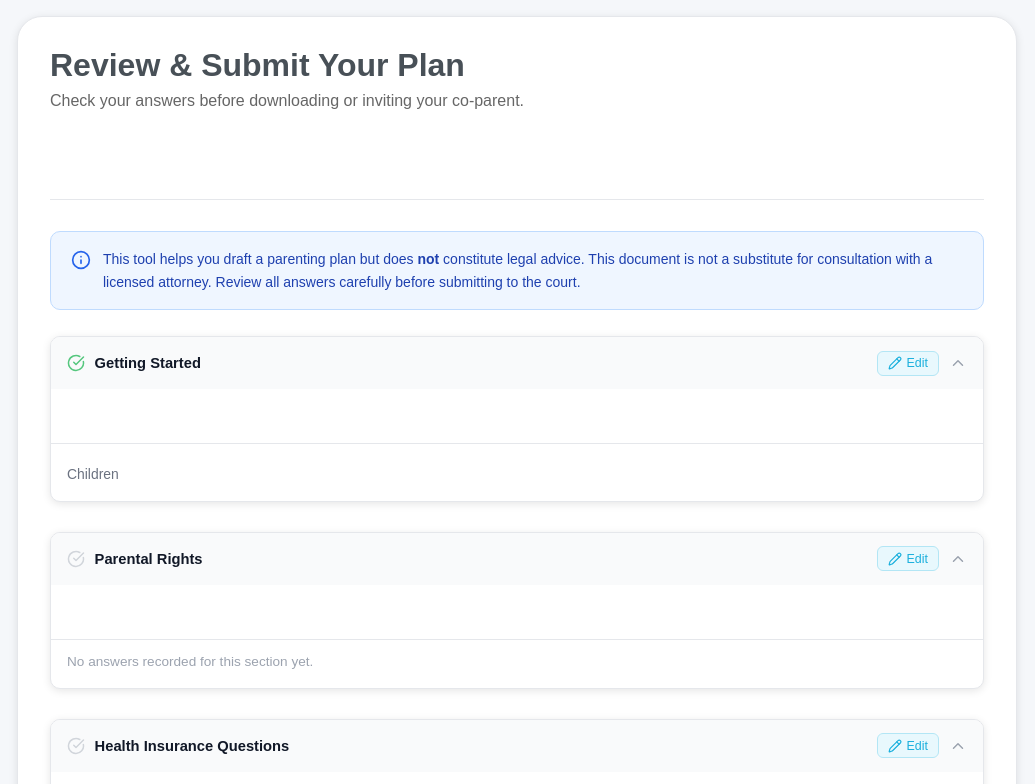
Test: Review › clicking a collapsed section header expands it again
Click the button "Getting Started Edit".
click(148, 363)  # box left=51, top=337, right=983, bottom=389
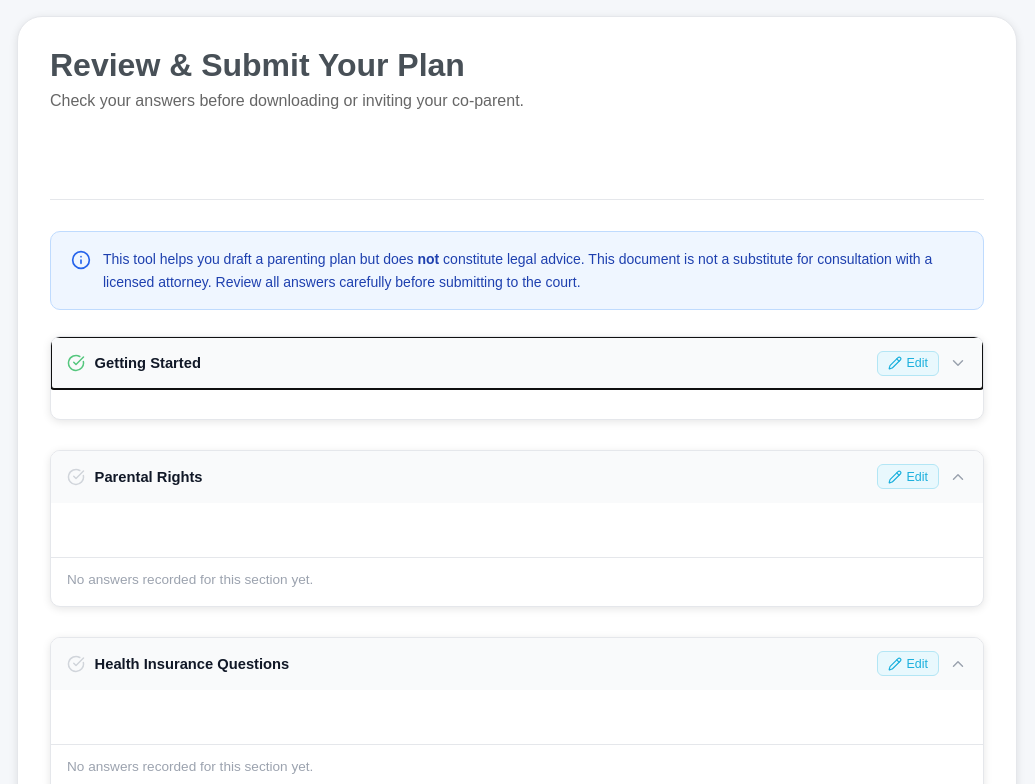
Click the button "Getting Started Edit".
click(148, 363)  # box left=51, top=337, right=983, bottom=389
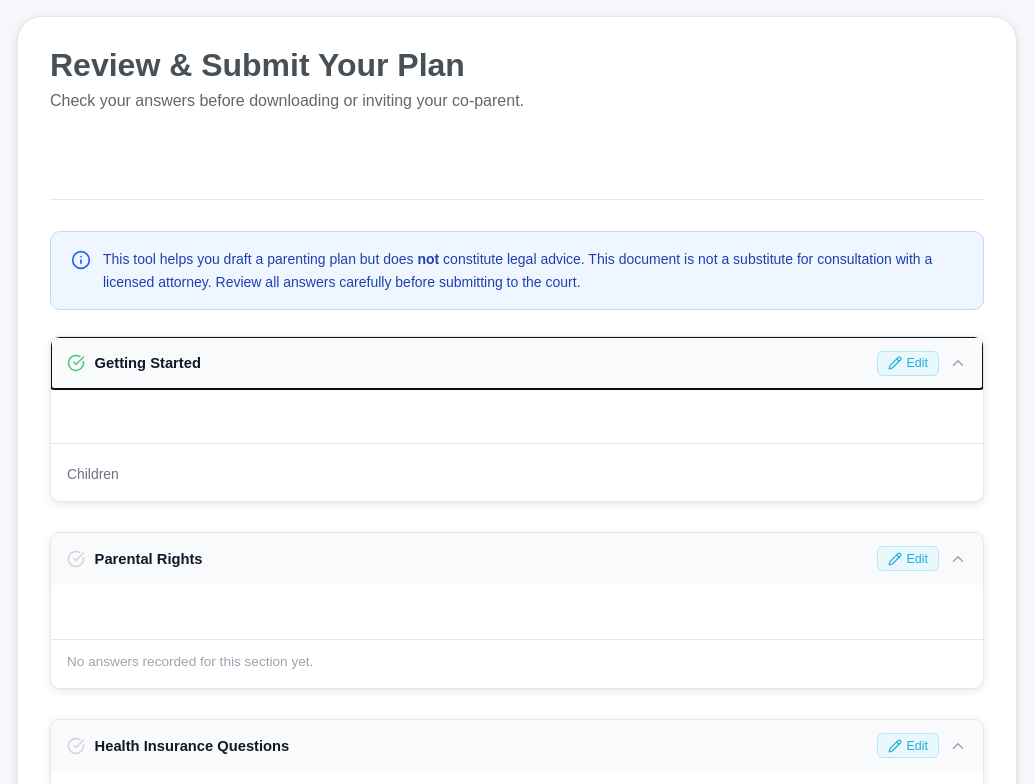
Expected: the button "Getting Started Edit" is expanded, left=51, top=337, right=983, bottom=389
